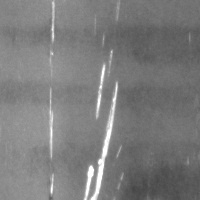scratches: (80, 75, 126, 199), (45, 3, 61, 199), (88, 49, 116, 123)
